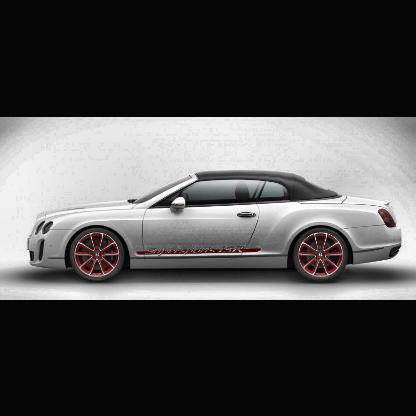Bentley Continental Supersports Conv- Convertible 2012: (28, 168, 405, 284)
